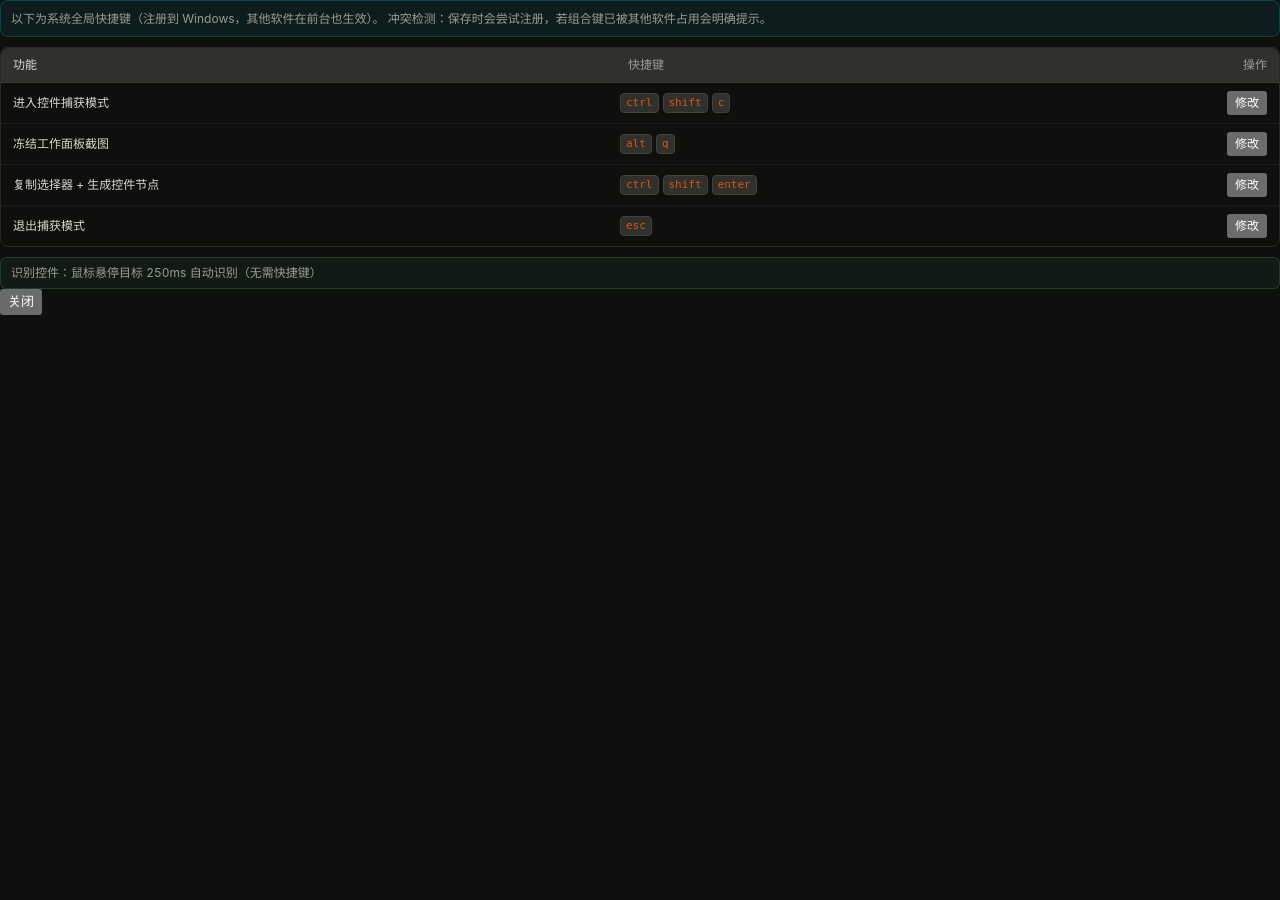
HotkeySettingsDialog 快捷键设置 › 保存成功更新显示
This screenshot has width=1280, height=900.
Click the button with class "stub-btn" in the row of "进入控件捕获模式".
click(1247, 103)  # box [1227,91,1267,115]
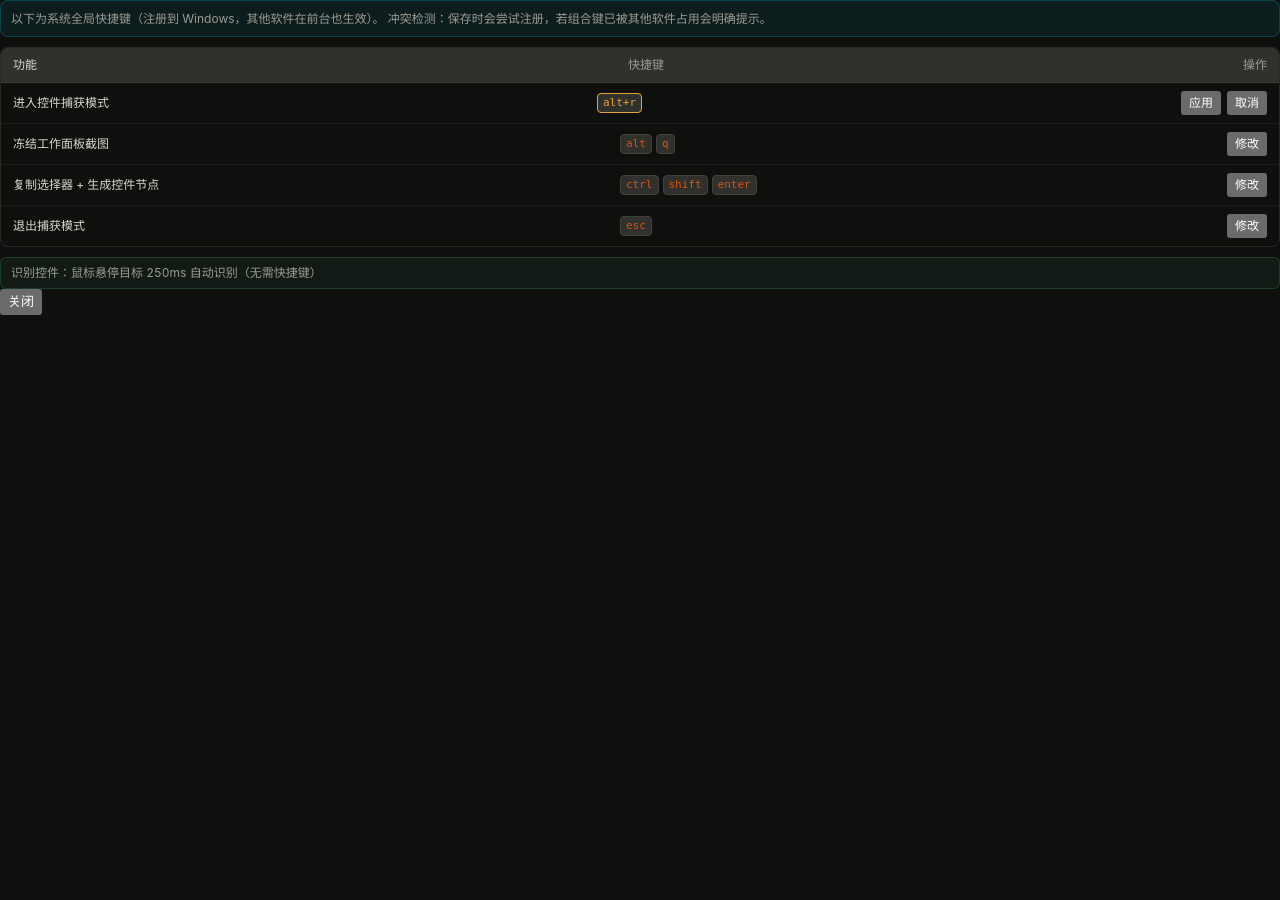
Click the button with class "stub-btn" showing "应用".
click(1201, 103)  # box [1181,91,1221,115]
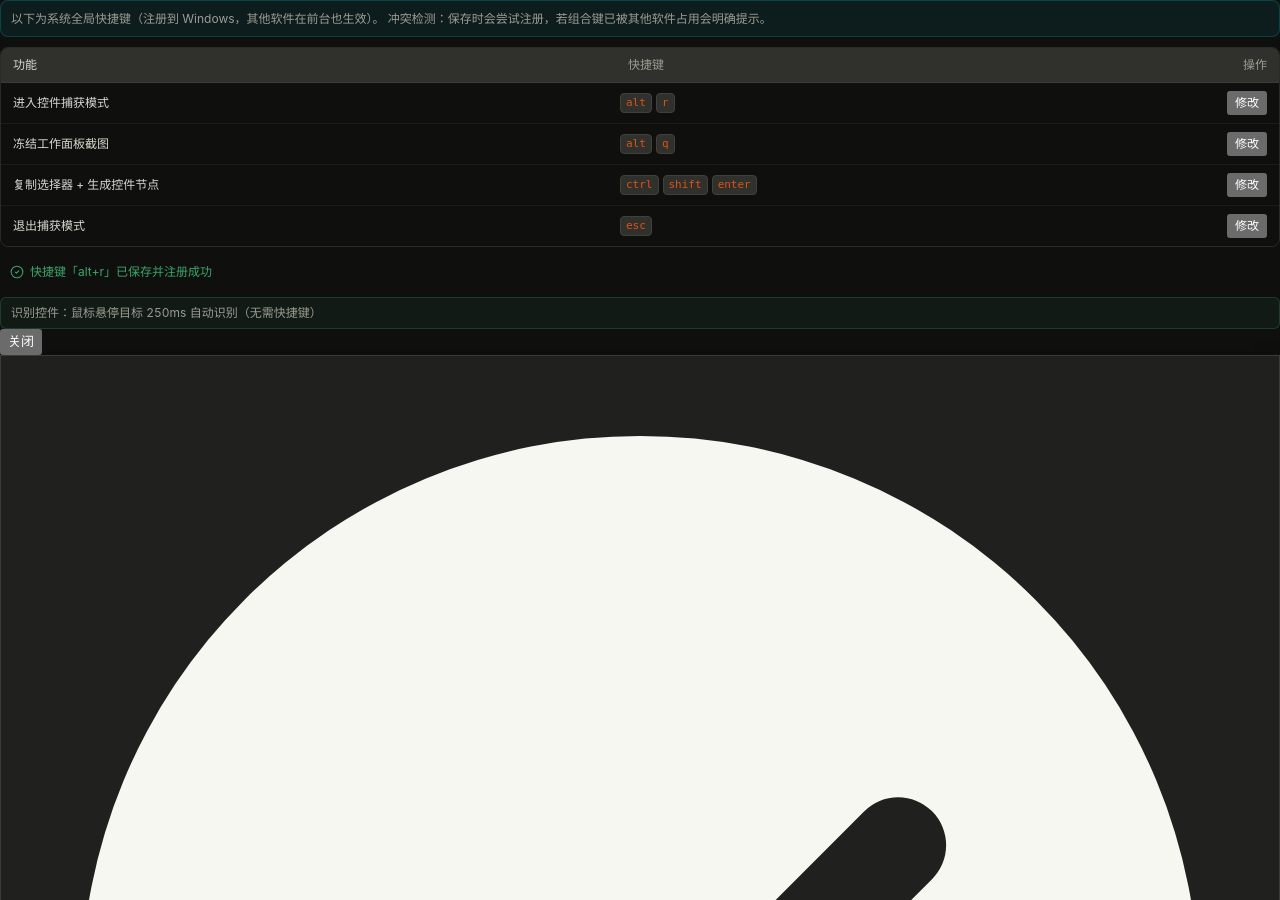
Expected: the text "已保存并注册成功" is shown, [30,264,212,279]
